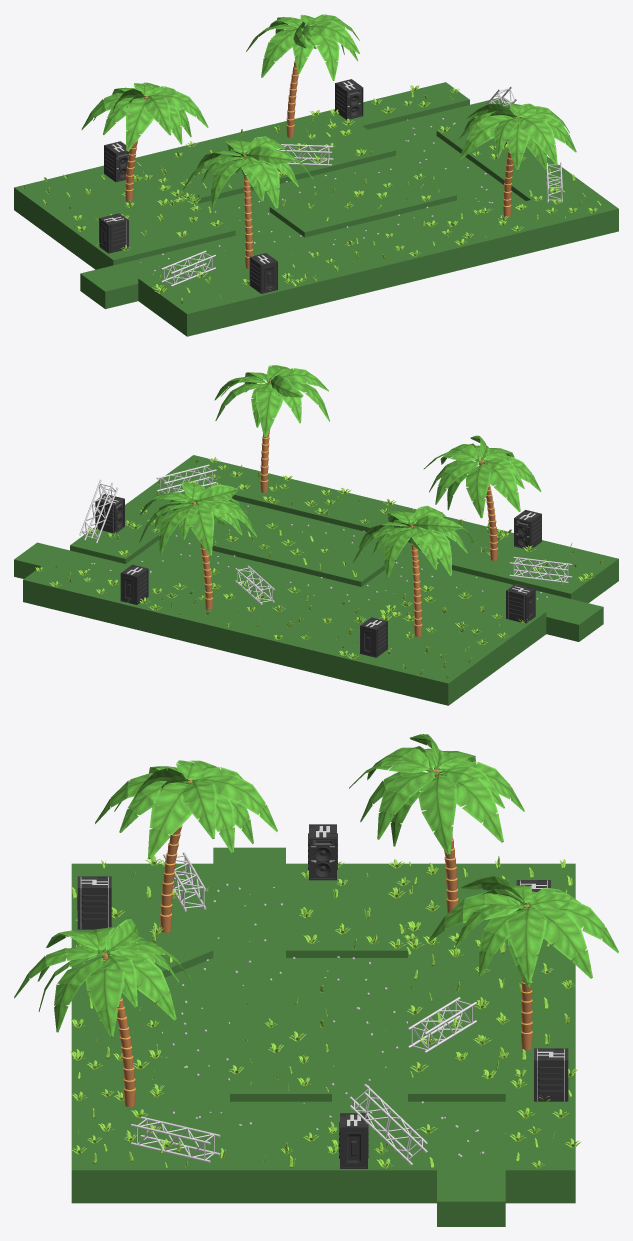
Rendered from Abandoned Stage Environment with props.fbx.
3 views of the same model, one above another, from view 1: azimuth 30°, elevation 25°; view 2: azimuth 150°, elevation 25°; view 3: azimuth 270°, elevation 25° (orthographic). The views are drawn at different scales.
Parts seen in each view (by area): view 1: Outdoor Concert, Palm Tree.007, Palm Tree.005, Palm Tree.006, Palm Tree.004, Speaker, Speaker.004, Speaker.002, Speaker.001, Truss.002, Truss.001; view 2: Outdoor Concert, Palm Tree.006, Palm Tree.004, Palm Tree.005, Palm Tree.007, Speaker, Speaker.002, Speaker.001, Speaker.004, Speaker.005, Truss.002, Truss.004 (+2 smaller); view 3: Outdoor Concert, Palm Tree.004, Palm Tree.005, Palm Tree.007, Palm Tree.006, Speaker.002, Speaker.004, Speaker, Truss.003, Speaker.005, Truss.004, Truss.001 (+1 smaller).
Part boxes in pixels (x1,y1,x2,y2): Outdoor Concert: [14, 82, 618, 336]; Palm Tree.007: [459, 103, 576, 217]; Palm Tree.005: [81, 82, 208, 201]; Palm Tree.006: [183, 136, 313, 268]; Palm Tree.004: [246, 14, 359, 137]; Speaker: [99, 213, 128, 253]; Speaker.004: [249, 253, 277, 293]; Speaker.002: [335, 79, 363, 119]; Speaker.001: [104, 141, 129, 182]; Truss.002: [161, 250, 215, 286]; Truss.001: [277, 144, 333, 165]; Outdoor Concert: [14, 455, 618, 705]; Palm Tree.006: [423, 435, 541, 560]; Palm Tree.004: [139, 482, 256, 610]; Palm Tree.005: [353, 505, 477, 636]; Palm Tree.007: [214, 365, 329, 492]; Speaker: [506, 584, 535, 623]; Speaker.002: [120, 564, 148, 604]; Speaker.001: [360, 617, 387, 657]; Speaker.004: [514, 510, 541, 549]; Speaker.005: [95, 494, 124, 533]; Truss.002: [509, 557, 572, 583]; Truss.004: [79, 479, 118, 543]; Outdoor Concert: [71, 847, 575, 1226]; Palm Tree.004: [428, 876, 618, 1050]; Palm Tree.005: [349, 734, 524, 913]; Palm Tree.007: [14, 919, 191, 1107]; Palm Tree.006: [95, 760, 277, 932]; Speaker.002: [534, 1048, 568, 1101]; Speaker.004: [77, 876, 111, 929]; Speaker: [308, 824, 337, 880]; Truss.003: [131, 1116, 220, 1162]; Speaker.005: [339, 1113, 368, 1168]; Truss.004: [349, 1083, 427, 1165]; Truss.001: [407, 997, 476, 1053].
Size of the model in its own units: 1662 by 449 by 1201.
